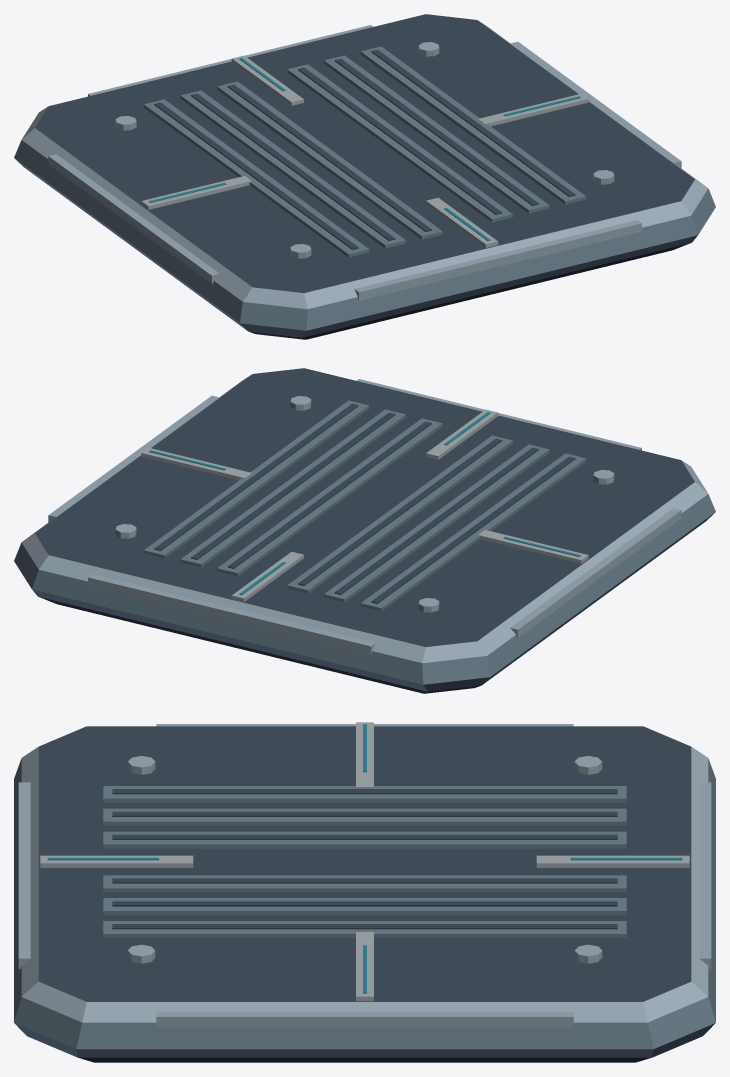
Rendered from chaos_premium_jump_deck.obj.
The picture shows the model from 3 angles, top to bottom: view 1: azimuth 30°, elevation 25°; view 2: azimuth 150°, elevation 25°; view 3: azimuth 270°, elevation 25°; orthographic projection. The views are drawn at different scales.
Parts seen in each view (by area): view 1: Chaos_GRIP, Chaos_ALLOY, Chaos_BRUSHED, Chaos_CERAMIC, Chaos_ARMOR, Chaos_CARBON, Chaos_SIGNAL; view 2: Chaos_GRIP, Chaos_ALLOY, Chaos_BRUSHED, Chaos_CERAMIC, Chaos_ARMOR, Chaos_CARBON, Chaos_SIGNAL; view 3: Chaos_GRIP, Chaos_ALLOY, Chaos_BRUSHED, Chaos_ARMOR, Chaos_CERAMIC, Chaos_CARBON, Chaos_SIGNAL.
Part boxes in pixels (box(x1,y1,x2,y2)): Chaos_GRIP: box(35, 14, 694, 292); Chaos_ALLOY: box(14, 46, 715, 330); Chaos_BRUSHED: box(21, 21, 708, 309); Chaos_CERAMIC: box(141, 55, 588, 247); Chaos_ARMOR: box(14, 158, 697, 337); Chaos_CARBON: box(249, 243, 690, 339); Chaos_SIGNAL: box(149, 58, 580, 240); Chaos_GRIP: box(35, 368, 694, 646); Chaos_ALLOY: box(14, 400, 715, 684); Chaos_BRUSHED: box(21, 375, 708, 663); Chaos_CERAMIC: box(141, 409, 588, 601); Chaos_ARMOR: box(32, 512, 715, 691); Chaos_CARBON: box(39, 597, 480, 693); Chaos_SIGNAL: box(149, 412, 580, 594); Chaos_GRIP: box(38, 726, 691, 1001); Chaos_ALLOY: box(14, 758, 715, 1049); Chaos_BRUSHED: box(18, 724, 711, 1027); Chaos_ARMOR: box(14, 1023, 715, 1057); Chaos_CERAMIC: box(40, 722, 689, 1001); Chaos_CARBON: box(78, 1057, 651, 1062); Chaos_SIGNAL: box(47, 724, 682, 993).
Bounding box in the file's own units: 11.94 × 1.67 × 11.94.
